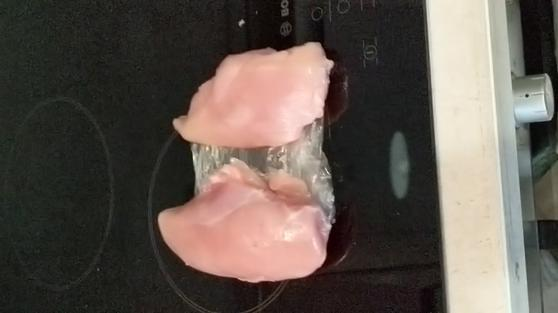chicken_fillet: (154, 156, 335, 284), (172, 41, 336, 148)
